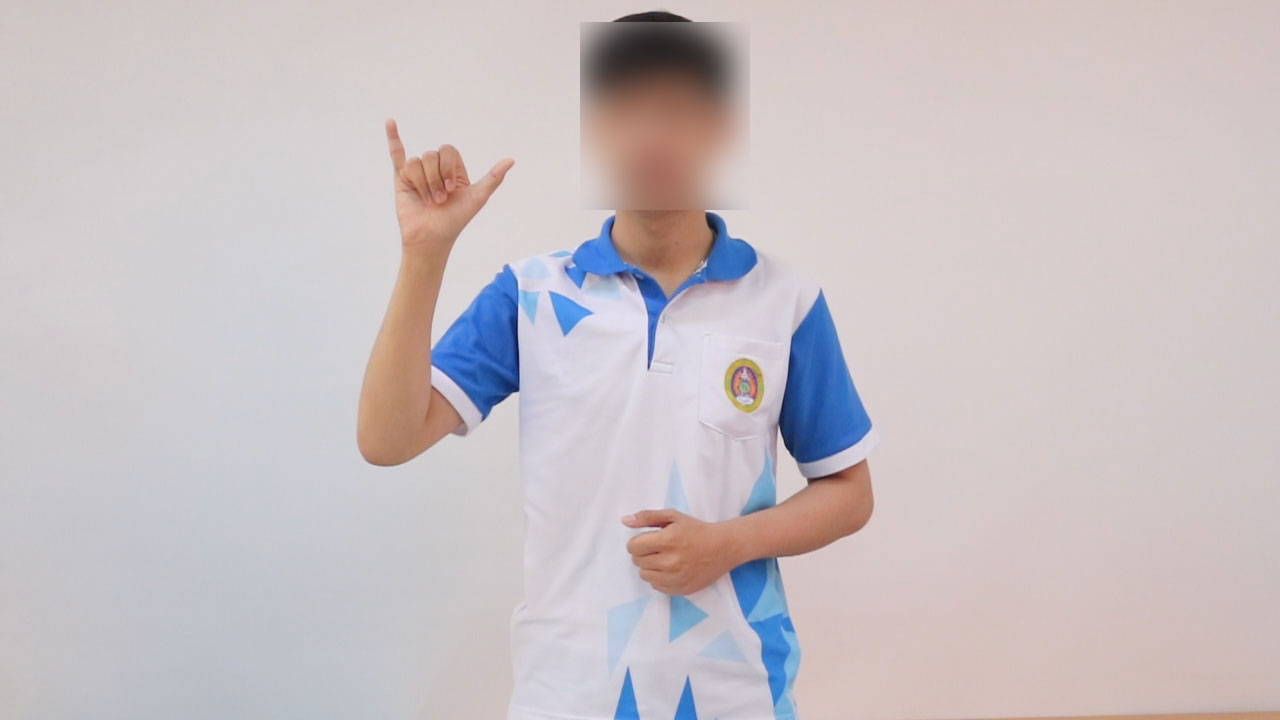yor: (373, 113, 519, 247)
